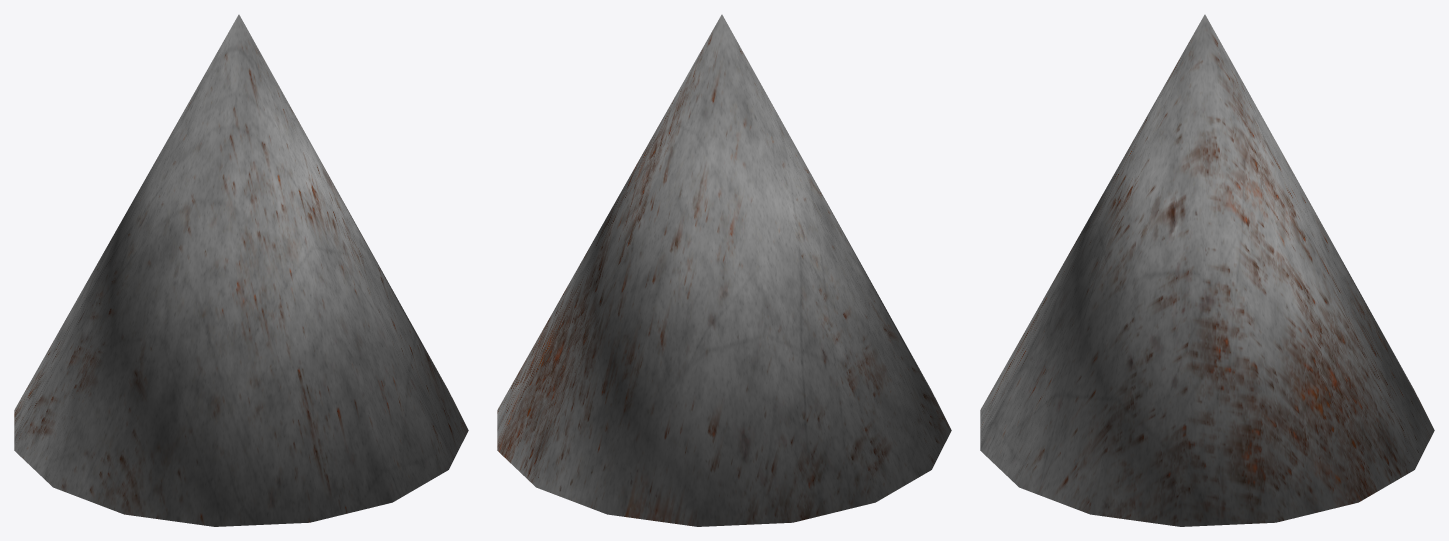
The model's file is spike.glb.
The picture shows the model from 3 angles, left to right: view 1: azimuth 30°, elevation 25°; view 2: azimuth 150°, elevation 25°; view 3: azimuth 270°, elevation 25°; orthographic projection.
Parts seen in each view (by area): view 1: Cone; view 2: Cone; view 3: Cone.
Boxes of the visible parts, x1,y1,x2,y2 form: Cone: [14, 14, 468, 526]; Cone: [497, 14, 951, 526]; Cone: [980, 14, 1434, 526].
Bounding box in the file's own units: 1.99 × 2 × 1.98.
1 material, 1 textured.
